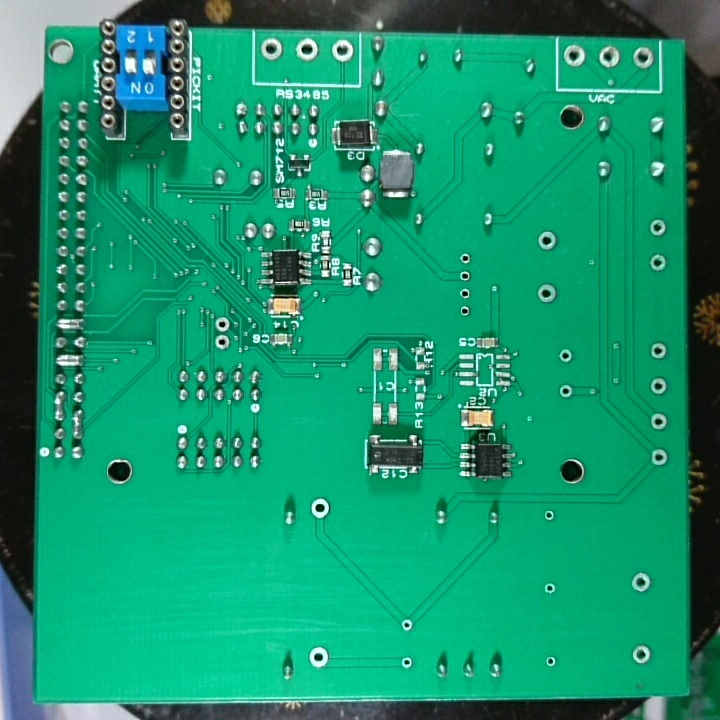F: (291, 35, 323, 64), (595, 43, 625, 72), (561, 41, 588, 72), (258, 35, 285, 63), (534, 227, 560, 255), (631, 44, 656, 73), (329, 38, 356, 64), (629, 640, 654, 667), (628, 568, 653, 595), (307, 644, 331, 670), (535, 281, 559, 306), (648, 409, 671, 435), (648, 444, 670, 471), (308, 495, 331, 520), (647, 339, 670, 363), (648, 375, 670, 398), (647, 216, 669, 239), (648, 252, 669, 273), (212, 332, 232, 353), (396, 654, 417, 674), (212, 314, 231, 335), (457, 266, 476, 286), (557, 381, 575, 401), (556, 346, 574, 366), (457, 249, 475, 268), (542, 578, 559, 598), (541, 506, 558, 526), (399, 615, 417, 633), (542, 653, 560, 670), (457, 302, 474, 320), (456, 285, 473, 303)
P: (51, 389, 69, 424), (52, 352, 88, 369), (52, 315, 87, 332), (69, 407, 85, 443)
